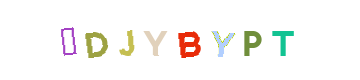5: (28, 0, 108, 80)
B: (140, 0, 220, 80)
D: (113, 0, 193, 80)
J: (118, 0, 198, 80)
P: (188, 0, 268, 80)
T: (243, 0, 323, 80)
Y: (128, 0, 208, 80), (149, 0, 229, 80)
